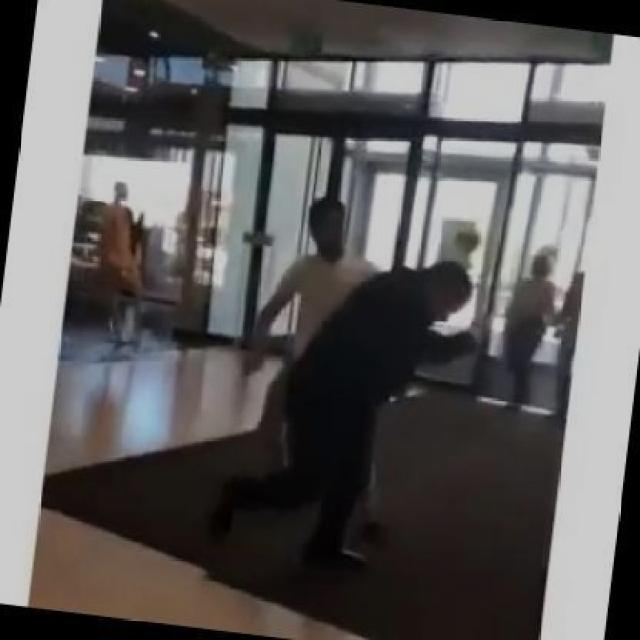fight: (191, 162, 512, 598)
